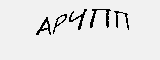А: (35, 15, 53, 39)
П: (88, 6, 113, 30), (113, 9, 134, 33)
Р: (53, 13, 69, 35)
Ч: (68, 8, 88, 33)
